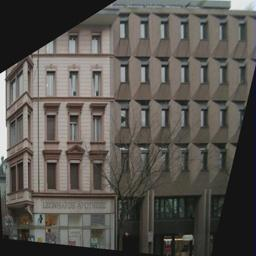building: (25, 7, 256, 250)
